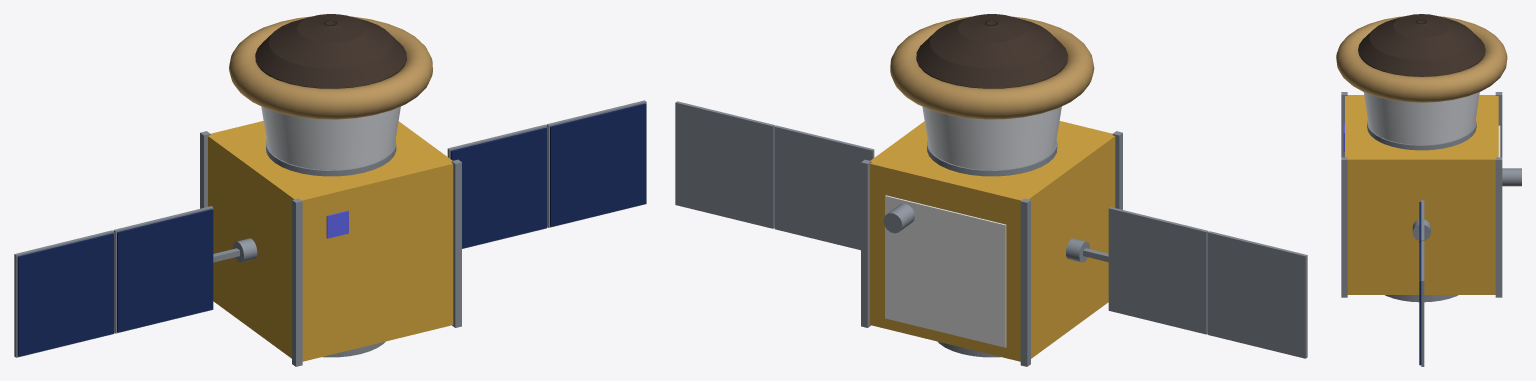
Rendered from SP-ALG.glb.
3 renders of one model, left to right at view 1: azimuth 30°, elevation 25°; view 2: azimuth 150°, elevation 25°; view 3: azimuth 270°, elevation 25°, orthographic. The views are drawn at different scales.
Visible parts, largest first — view 1: service_module_structure, solar_panel_-X1, solar_panel_+X2, solar_panel_-X2, solar_panel_+X1, nose, heat_shield_packed, capsule_backshell, corner_rail_-X-Y, corner_rail_+X-Y, panel_frame_-X2, separation_interface (+5 smaller); view 2: service_module_structure, radiator_+Y_face, panel_frame_-X2, panel_frame_+X2, panel_frame_-X1, panel_frame_+X1, nose, heat_shield_packed, capsule_backshell, corner_rail_-X+Y, corner_rail_+X+Y, separation_interface (+2 smaller); view 3: service_module_structure, nose, heat_shield_packed, capsule_backshell, corner_rail_+X+Y, corner_rail_+X-Y, separation_interface, panel_frame_+X2, star_tracker, solar_panel_+X2, launch_separation_ring, corner_rail_-X+Y (+3 smaller).
Part boxes in pixels (x1,y1,x2,y2): service_module_structure: (208,121,453,361); solar_panel_-X1: (117,209,213,332); solar_panel_+X2: (550,103,646,226); solar_panel_-X2: (17,233,113,356); solar_panel_+X1: (450,127,546,248); nose: (255,14,406,88); heat_shield_packed: (229,16,432,119); capsule_backshell: (261,106,400,170); corner_rail_-X-Y: (292,198,302,366); corner_rail_+X-Y: (451,159,461,327); panel_frame_-X2: (14,230,114,357); separation_interface: (266,140,396,176); service_module_structure: (870,121,1115,361); radiator_+Y_face: (885,195,1006,347); panel_frame_-X2: (1207,231,1307,358); panel_frame_+X2: (675,101,775,228); panel_frame_-X1: (1108,207,1208,334); panel_frame_+X1: (774,125,874,250); nose: (916,14,1067,88); heat_shield_packed: (890,16,1094,119); capsule_backshell: (922,106,1061,170); corner_rail_-X+Y: (1020,198,1030,366); corner_rail_+X+Y: (861,159,871,327); separation_interface: (927,139,1057,176); service_module_structure: (1345,95,1498,294); nose: (1358,14,1485,76); heat_shield_packed: (1336,16,1507,102); capsule_backshell: (1364,92,1479,145); corner_rail_+X+Y: (1495,157,1502,297); corner_rail_+X-Y: (1341,157,1347,297); separation_interface: (1367,120,1476,150); panel_frame_+X2: (1421,241,1424,366); star_tracker: (1502,168,1521,186); solar_panel_+X2: (1419,242,1421,365); launch_separation_ring: (1385,295,1458,302); corner_rail_-X+Y: (1495,92,1502,157).
Size of the model in its own units: 2.35 by 1.11 by 0.716.
